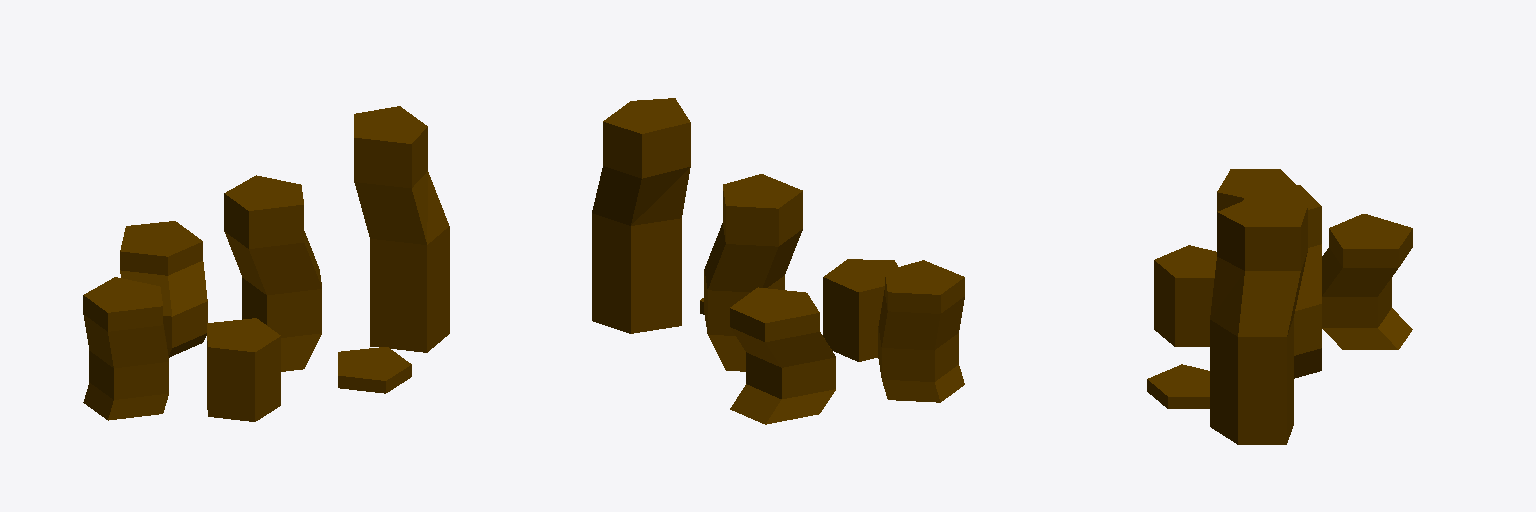
Rendered from coins.obj.
The picture shows the model from 3 angles: view 1: azimuth 30°, elevation 25°; view 2: azimuth 150°, elevation 25°; view 3: azimuth 270°, elevation 25°; orthographic projection.
Bounding box in the file's own units: 57 × 33 × 38.